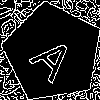A: (28, 28, 85, 85)
